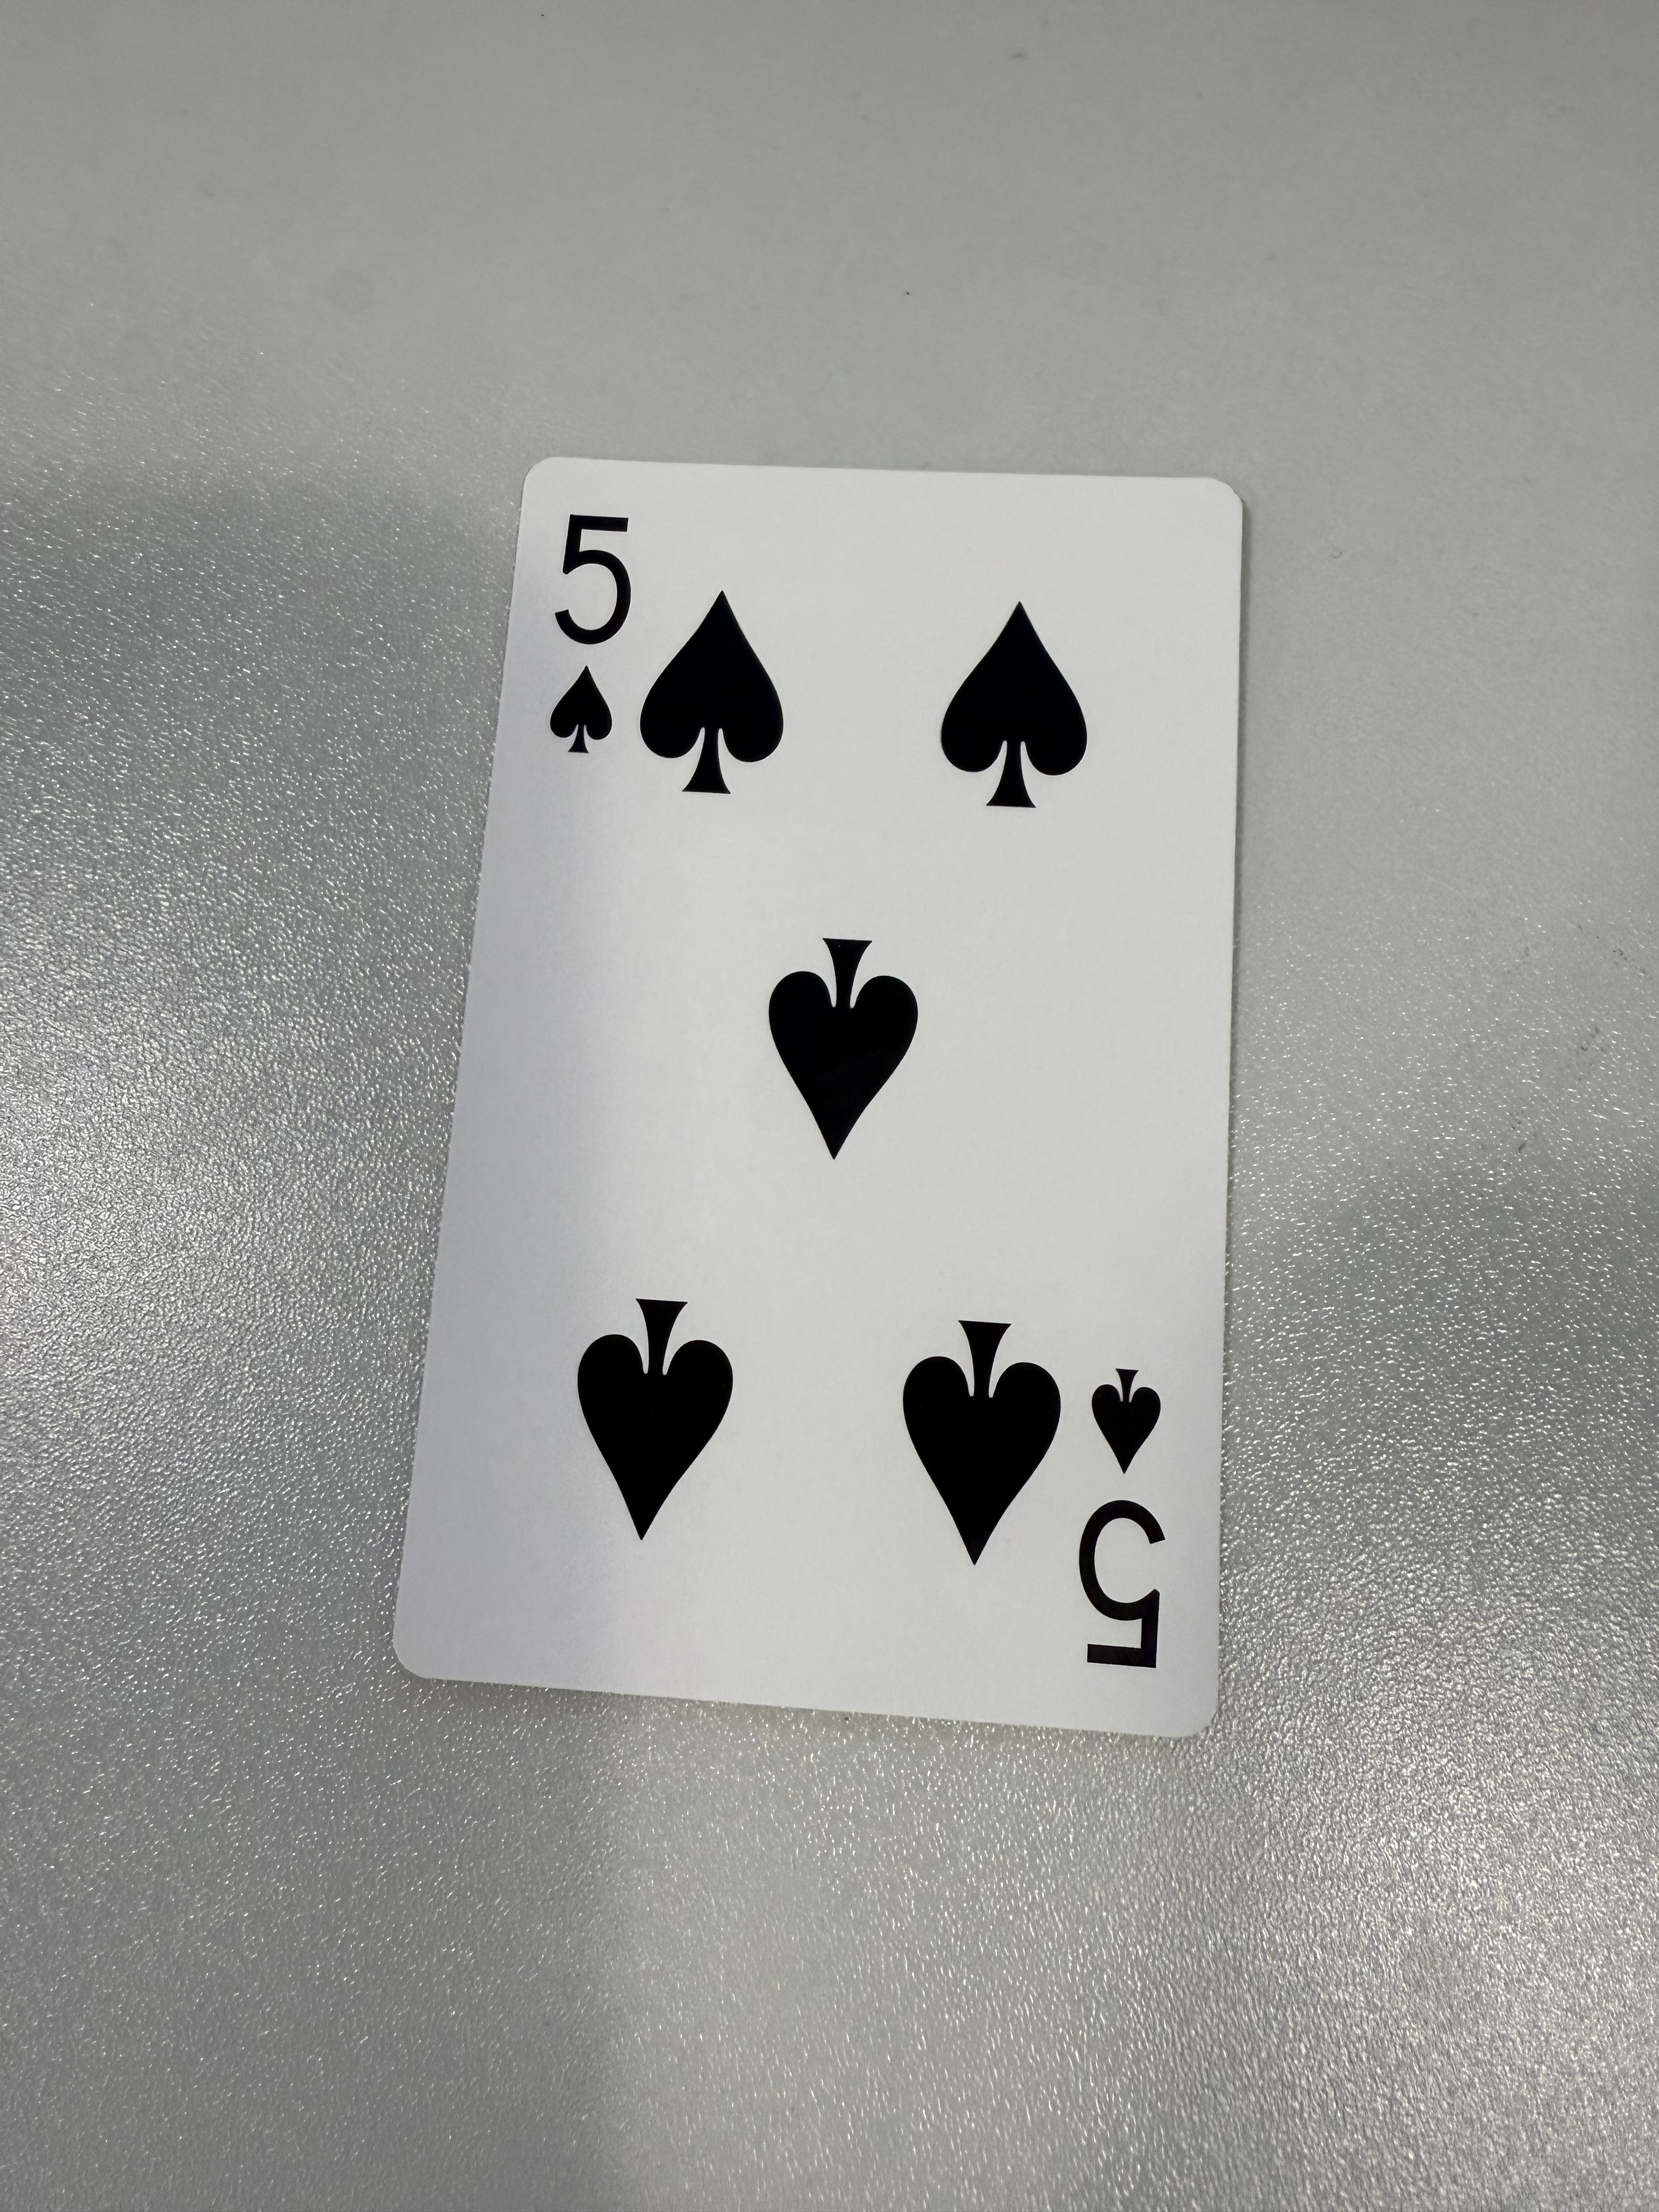poker: (387, 448, 1288, 1740)
